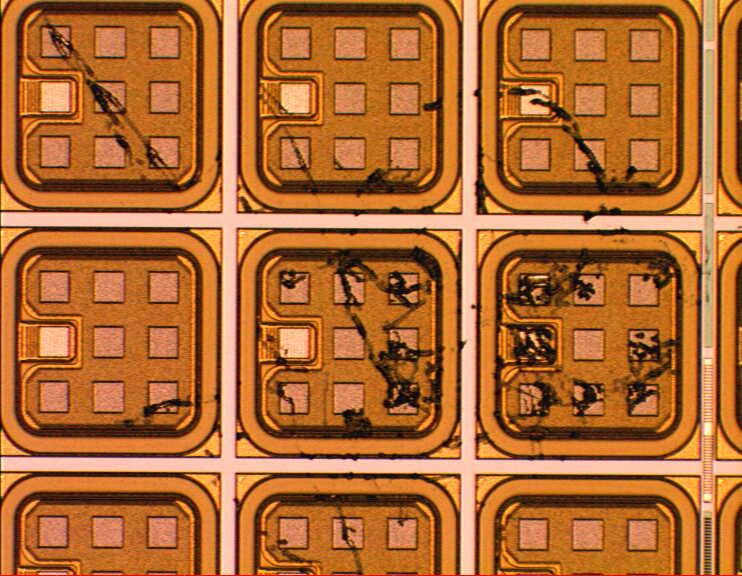SCRATCH: (36, 5, 691, 576)
